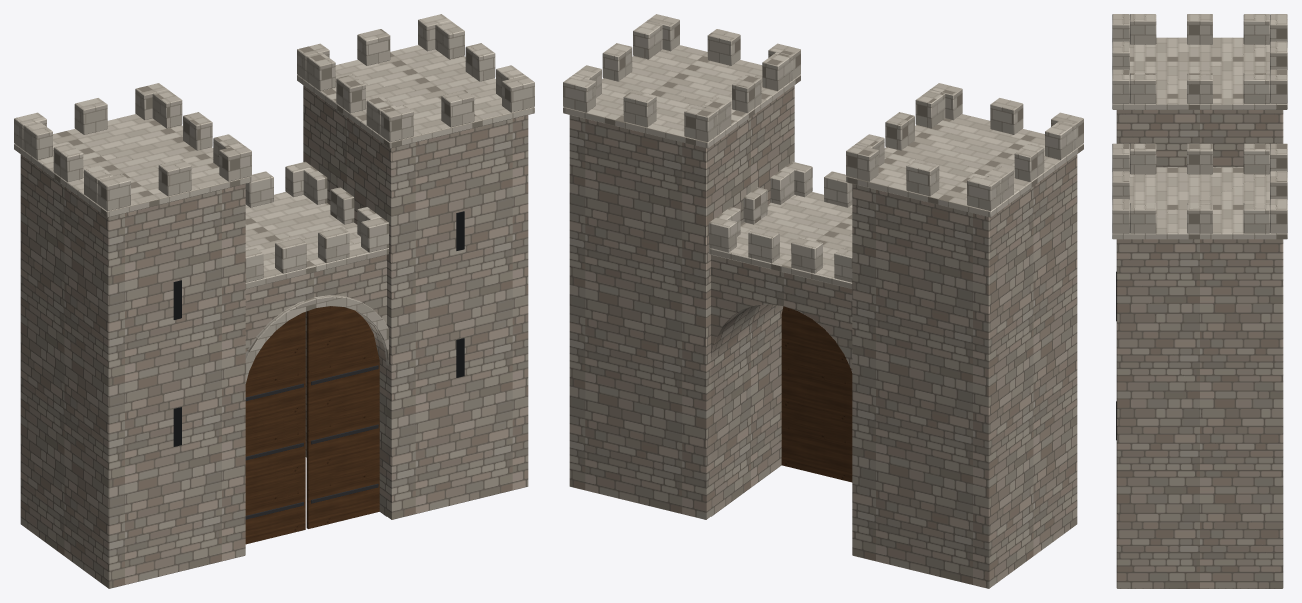
Rendered from gatehouse.glb.
3 views of the same model, side by side, from view 1: azimuth 30°, elevation 25°; view 2: azimuth 150°, elevation 25°; view 3: azimuth 270°, elevation 25° (orthographic). The views are drawn at different scales.
Visible parts, largest first — view 1: Gatehouse, Gate_Left, Gate_Right; view 2: Gatehouse, Gate_Left; view 3: Gatehouse.
Part boxes in pixels (x1,y1,x2,y2): Gatehouse: (14,14,534,588); Gate_Left: (306,306,379,528); Gate_Right: (245,312,305,544); Gatehouse: (563,14,1083,588); Gate_Left: (781,306,852,482); Gatehouse: (1112,14,1287,588).
Size of the model in its own units: 10.6 by 9.6 by 4.
5 materials, 3 textured.
